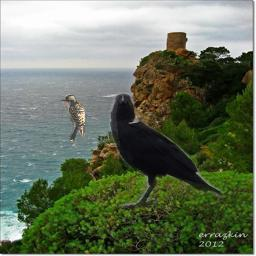Crow: (108, 92, 225, 208)
Woodpecker: (60, 94, 85, 141)
